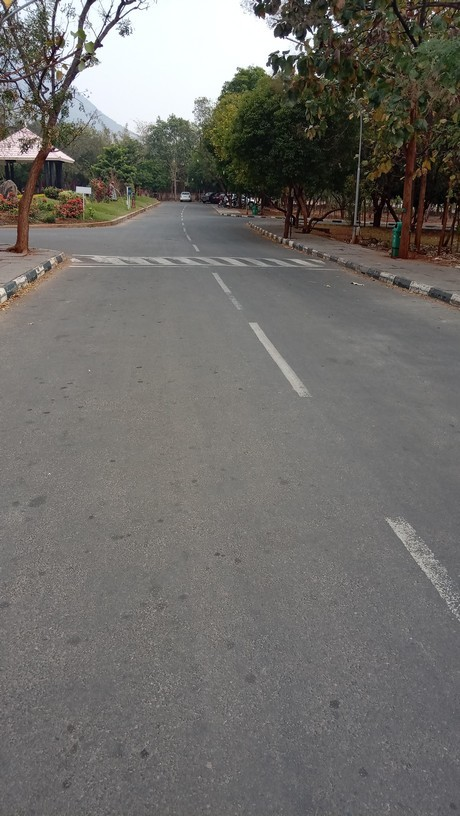bump: (58, 253, 327, 269)
